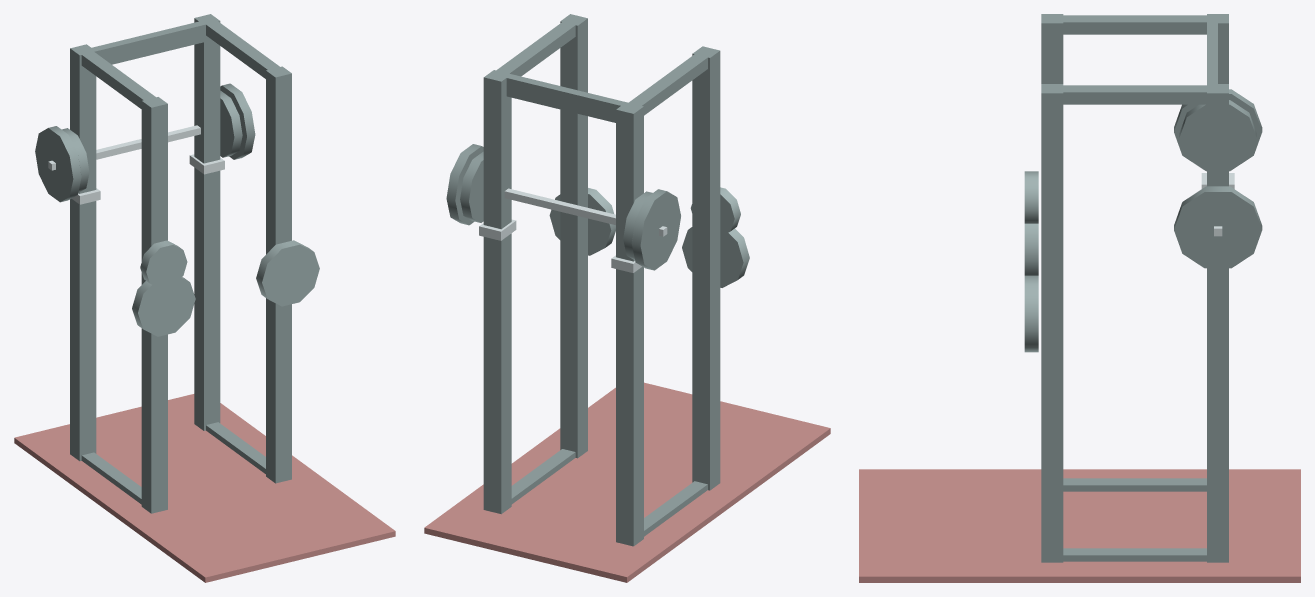
File: squatRack.glb
The picture shows the model from 3 angles, left to right: view 1: azimuth 30°, elevation 25°; view 2: azimuth 150°, elevation 25°; view 3: azimuth 270°, elevation 25°; orthographic projection. The views are drawn at different scales.
Visible parts, largest first — view 1: squatRack; view 2: squatRack; view 3: squatRack.
Boxes of the visible parts, x1,y1,x2,y2 form: squatRack: (14,14,395,582); squatRack: (424,14,830,582); squatRack: (859,14,1300,582).
Size of the model in its own units: 0.46 by 0.95 by 0.8.
